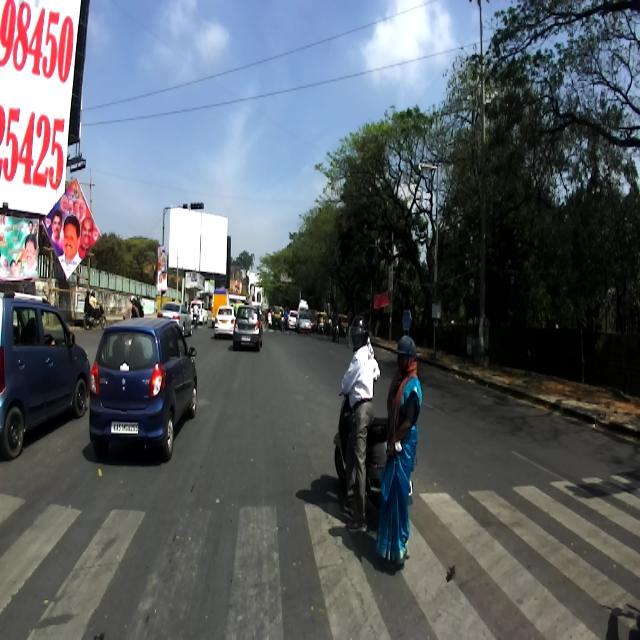car ahead at: (88, 312, 200, 473), (0, 287, 90, 486)
person ahead at: (384, 331, 426, 576), (338, 321, 382, 537)
zebra crossing ahead at: (2, 466, 637, 640)
